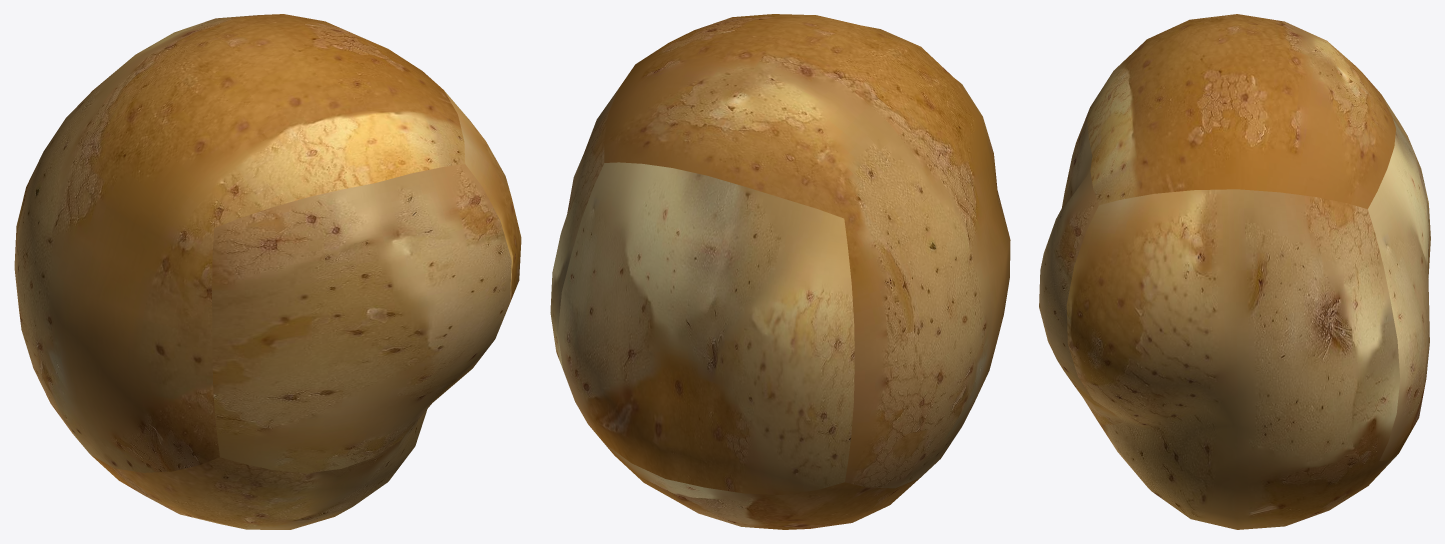
3 renders of one model, left to right at view 1: azimuth 30°, elevation 25°; view 2: azimuth 150°, elevation 25°; view 3: azimuth 270°, elevation 25°, orthographic. The views are drawn at different scales.
Bounding box in the file's own units: 0.8772 × 1 × 0.7643.
